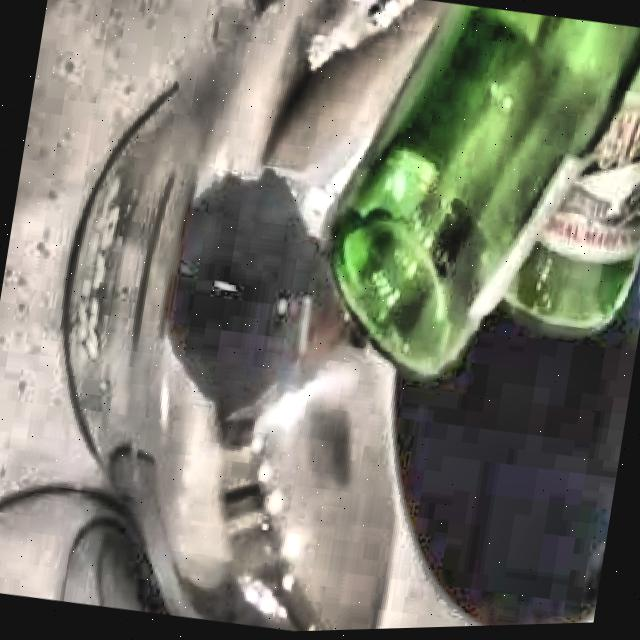glass: (328, 6, 640, 379)
